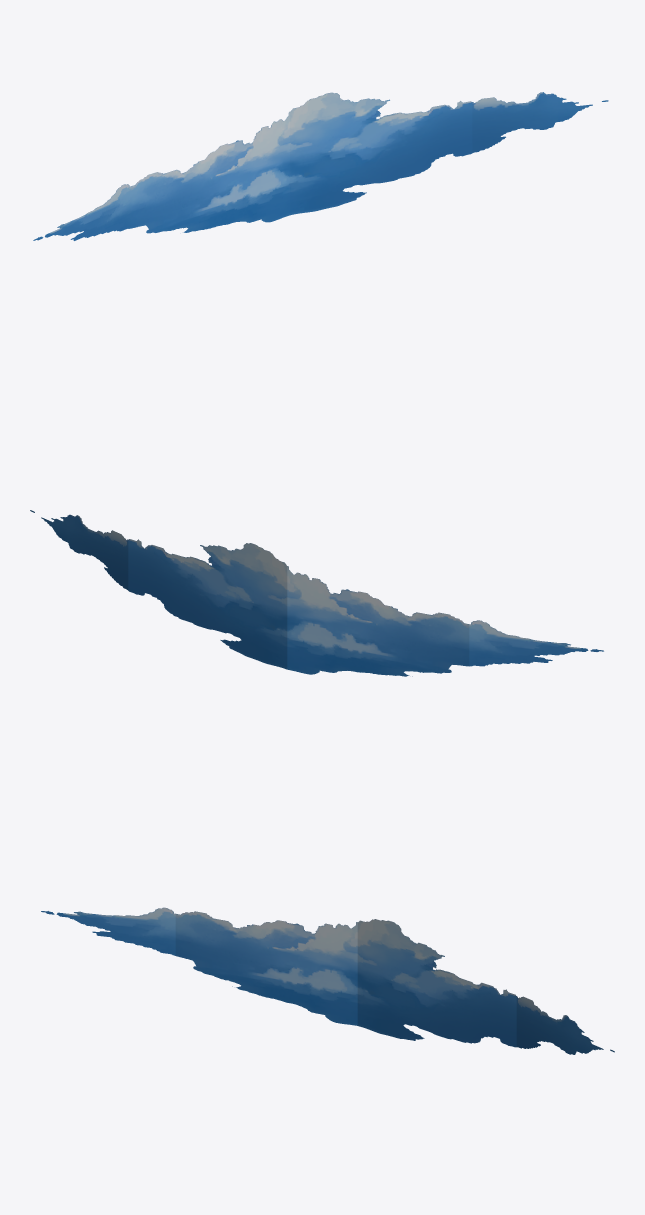
File: Cloud_1_2.fbx
3 views of the same model, one above another, from view 1: azimuth 30°, elevation 25°; view 2: azimuth 150°, elevation 25°; view 3: azimuth 330°, elevation 25° (orthographic).
Visible parts, largest first — view 1: Cloud_1_2; view 2: Cloud_1_2; view 3: Cloud_1_2.
Part boxes in pixels (bbox=[...]): Cloud_1_2: bbox=[33, 92, 608, 240]; Cloud_1_2: bbox=[30, 510, 603, 676]; Cloud_1_2: bbox=[41, 907, 614, 1054].
Size of the model in its own units: 200 by 70.07 by 18.94.
